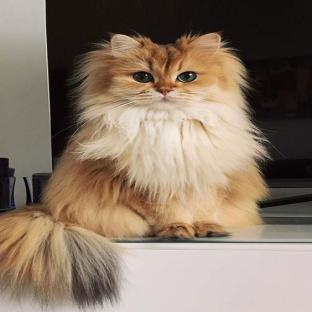Animal: (1, 32, 268, 308)
